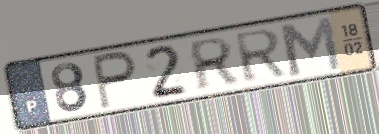2: (142, 43, 188, 102)
8: (49, 61, 91, 114)
M: (275, 14, 344, 78)
P: (90, 48, 139, 112)
R: (232, 27, 290, 86), (188, 34, 240, 94)
